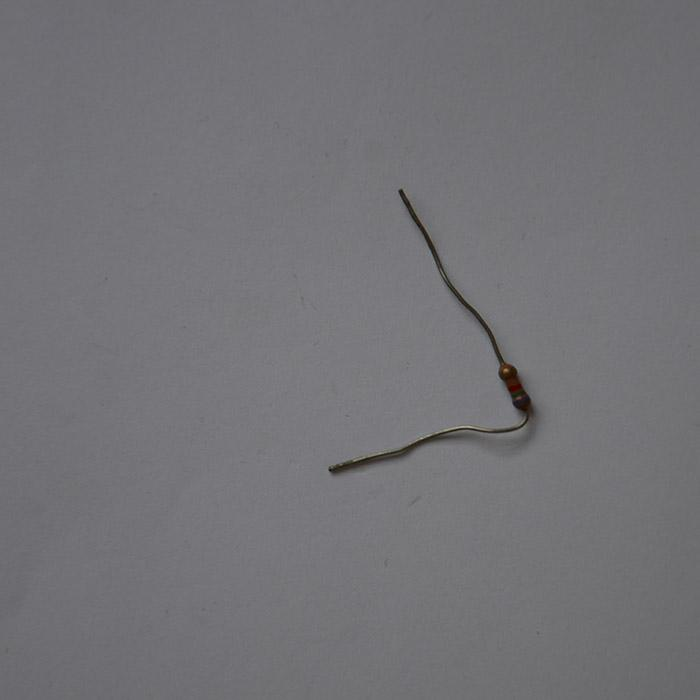resistor: (498, 361, 530, 410)
